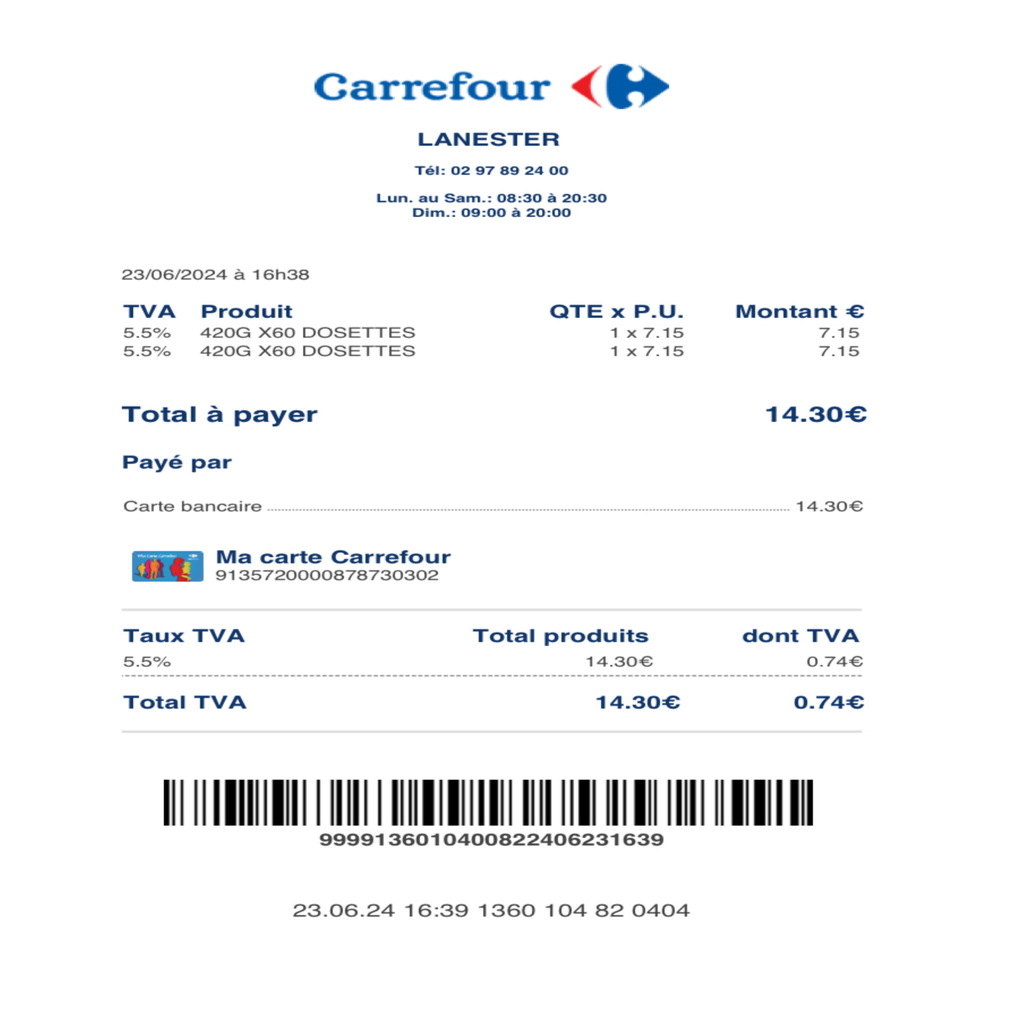recipt: (6, 6, 1020, 1018)
